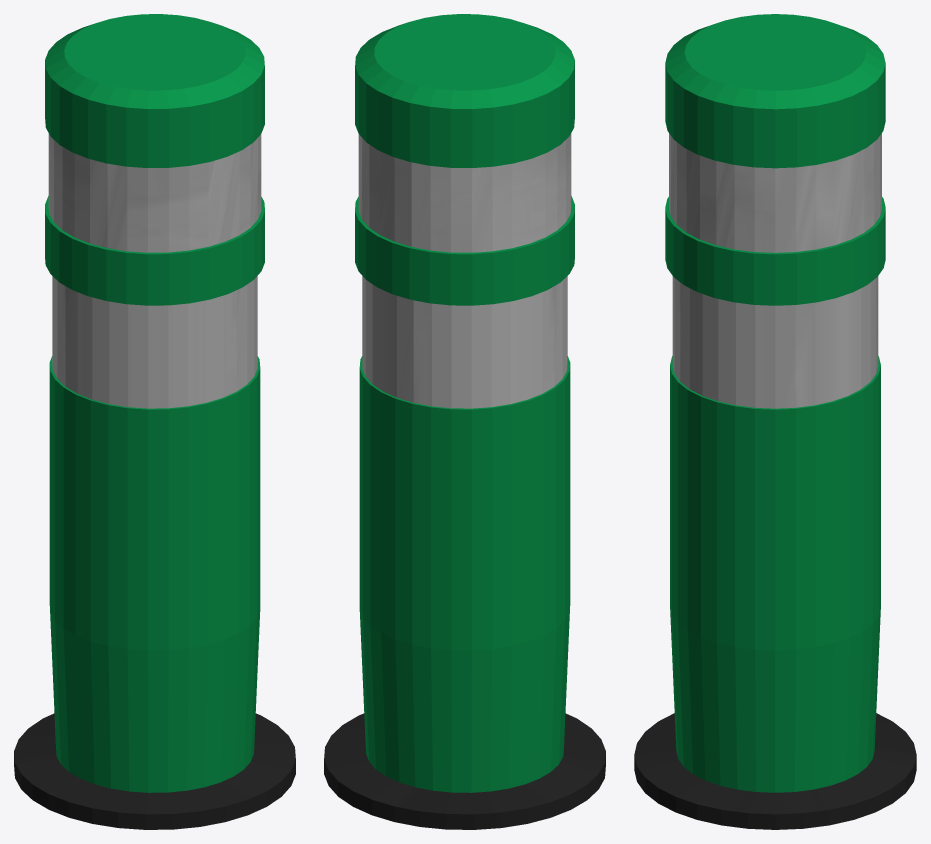
File: balise.obj
3 views of the same model, side by side, from view 1: azimuth 30°, elevation 25°; view 2: azimuth 150°, elevation 25°; view 3: azimuth 270°, elevation 25° (orthographic).
Visible parts, largest first — view 1: Cylinder.003_Cylinder.004; view 2: Cylinder.003_Cylinder.004; view 3: Cylinder.003_Cylinder.004.
Boxes of the visible parts, x1=… form: Cylinder.003_Cylinder.004: x1=14, y1=14, x2=295, y2=829; Cylinder.003_Cylinder.004: x1=324, y1=14, x2=605, y2=829; Cylinder.003_Cylinder.004: x1=634, y1=14, x2=916, y2=829.
Bounding box in the file's own units: 0.2949 × 0.8275 × 0.2949.
1 material, 1 textured.
